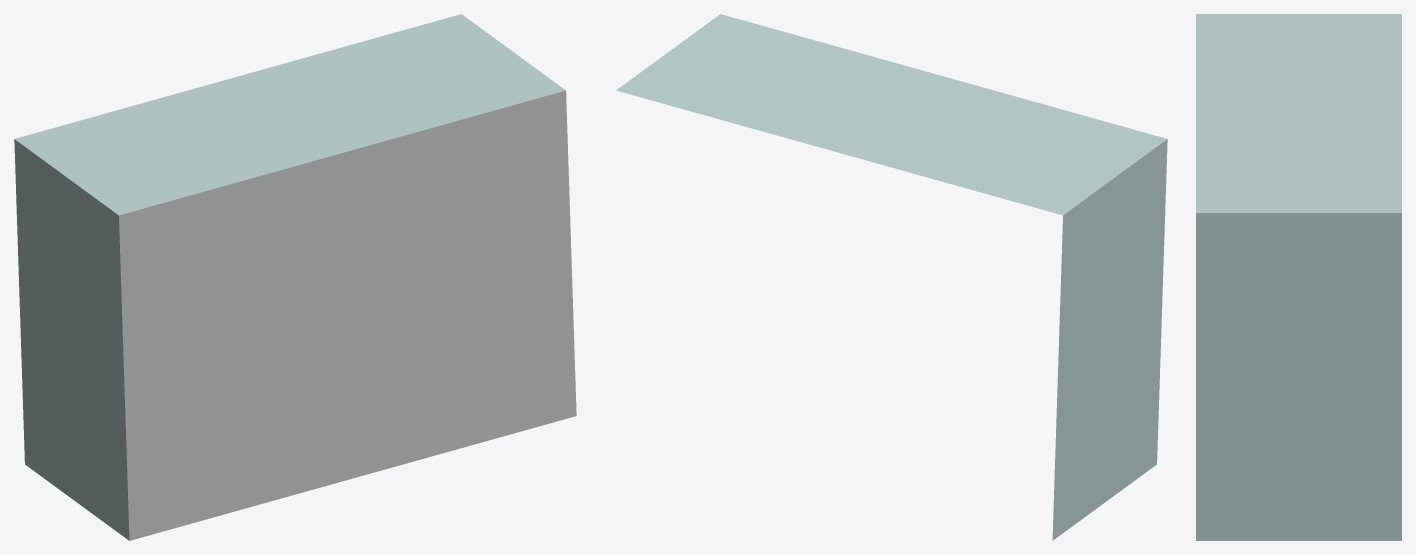
The picture shows the model from 3 angles, left to right: view 1: azimuth 30°, elevation 25°; view 2: azimuth 150°, elevation 25°; view 3: azimuth 270°, elevation 25°; orthographic projection.
Visible parts, largest first — view 1: 0_0_2_0_2_0_2_2_2; view 2: 0_0_2_0_2_0_2_2_2; view 3: 0_0_2_0_2_0_2_2_2.
Part boxes in pixels (box(x1,y1,x2,y2)): 0_0_2_0_2_0_2_2_2: box(14, 14, 576, 540); 0_0_2_0_2_0_2_2_2: box(616, 14, 1167, 540); 0_0_2_0_2_0_2_2_2: box(1196, 14, 1401, 540).
Size of the model in its own units: 7.58 by 5.44 by 3.
